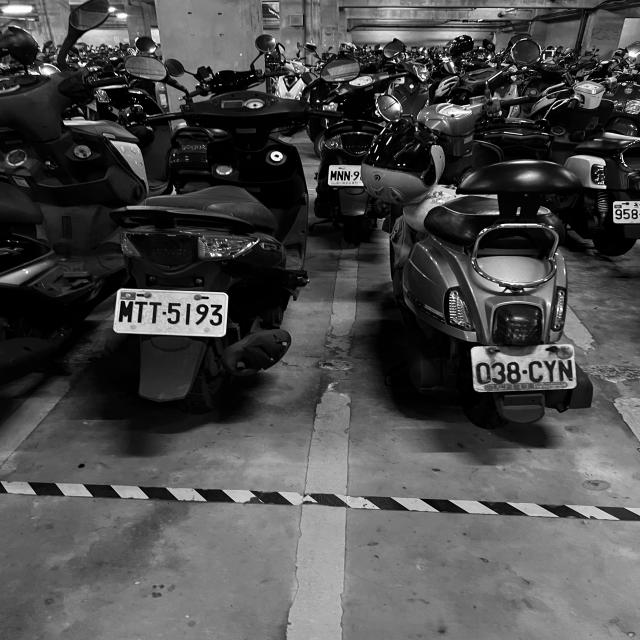-: (161, 310, 167, 316), (522, 368, 528, 374), (350, 174, 352, 177)
0: (475, 360, 491, 384)
1: (185, 303, 191, 325)
3: (490, 360, 506, 384), (210, 304, 222, 326)
5: (168, 301, 182, 324), (622, 208, 630, 220)
8: (506, 361, 522, 384), (631, 209, 638, 219)
9: (196, 304, 209, 324), (615, 210, 623, 220), (354, 170, 359, 180)
C: (528, 360, 544, 382)
M: (118, 299, 135, 323), (331, 170, 336, 180)
N: (557, 359, 574, 381), (337, 170, 343, 180), (344, 170, 350, 180)
T: (133, 300, 149, 324), (148, 301, 163, 325)
Y: (542, 360, 556, 382)
plate: (114, 289, 226, 336), (472, 348, 576, 388)
